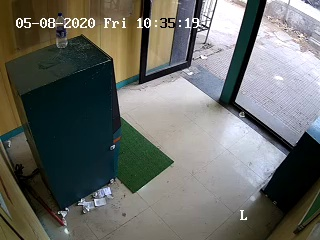open: (136, 3, 270, 109)
